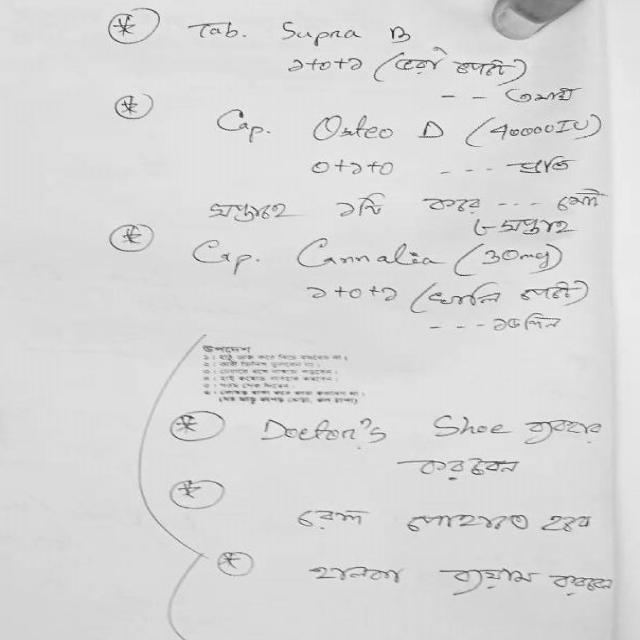medicine: (307, 104, 452, 152), (295, 232, 444, 276), (266, 16, 418, 48)
